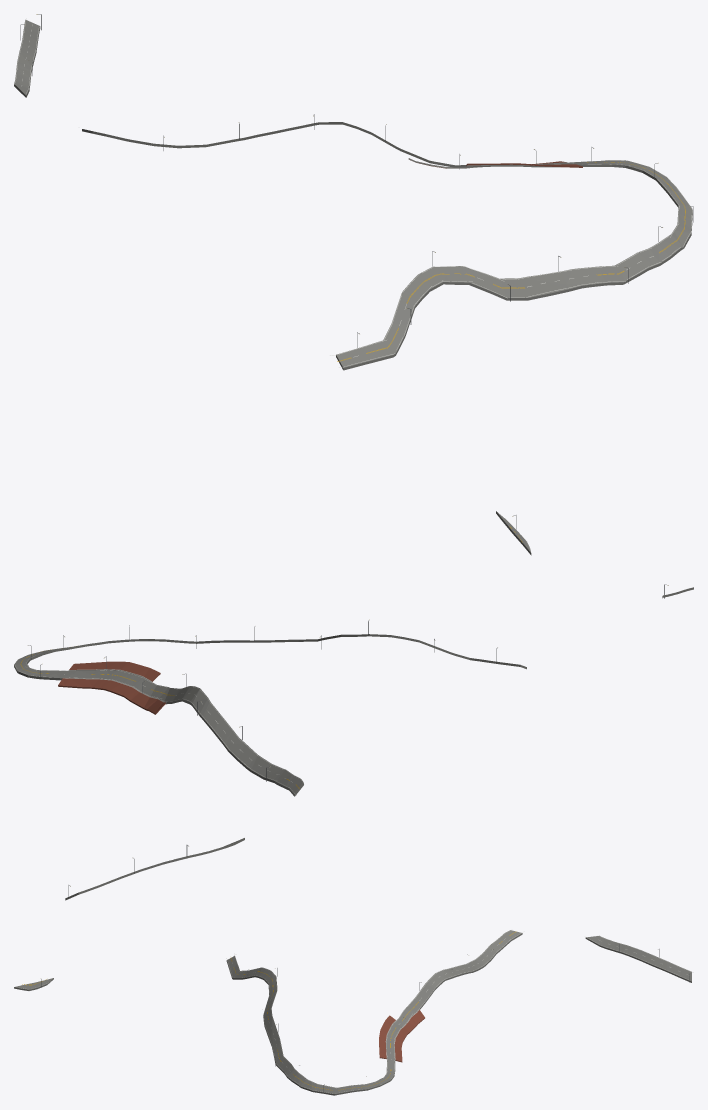
Rendered from 16-54732-29756.14f6acea.glb.
The picture shows the model from 3 angles, top to bottom: view 1: azimuth 30°, elevation 25°; view 2: azimuth 150°, elevation 25°; view 3: azimuth 270°, elevation 25°; orthographic projection. The views are drawn at different scales.
Bounding box in the file's own units: 226 × 55.42 × 517.
